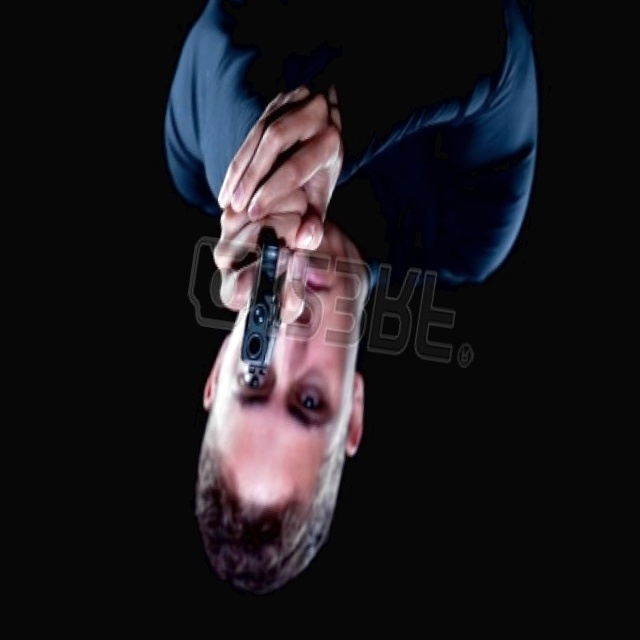gun: (224, 175, 316, 394)
